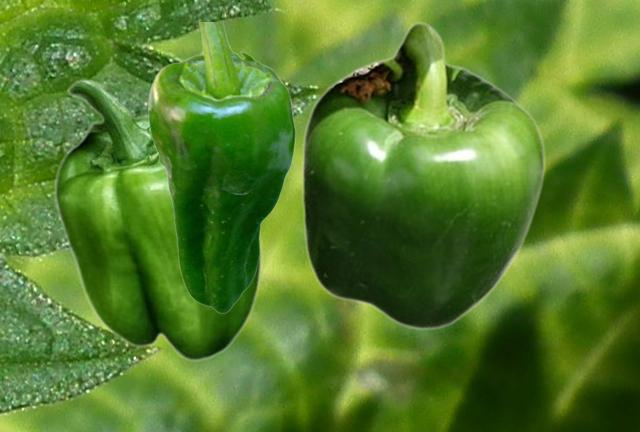bell_pepper: (300, 21, 545, 330), (53, 78, 262, 361), (147, 22, 295, 313)
